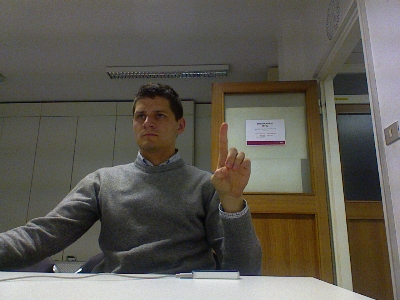食指: (210, 121, 252, 199)
